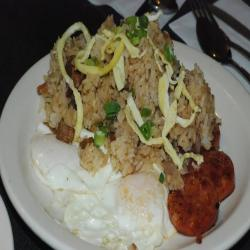omelette: (31, 147, 165, 246)
rice: (49, 28, 195, 163)
